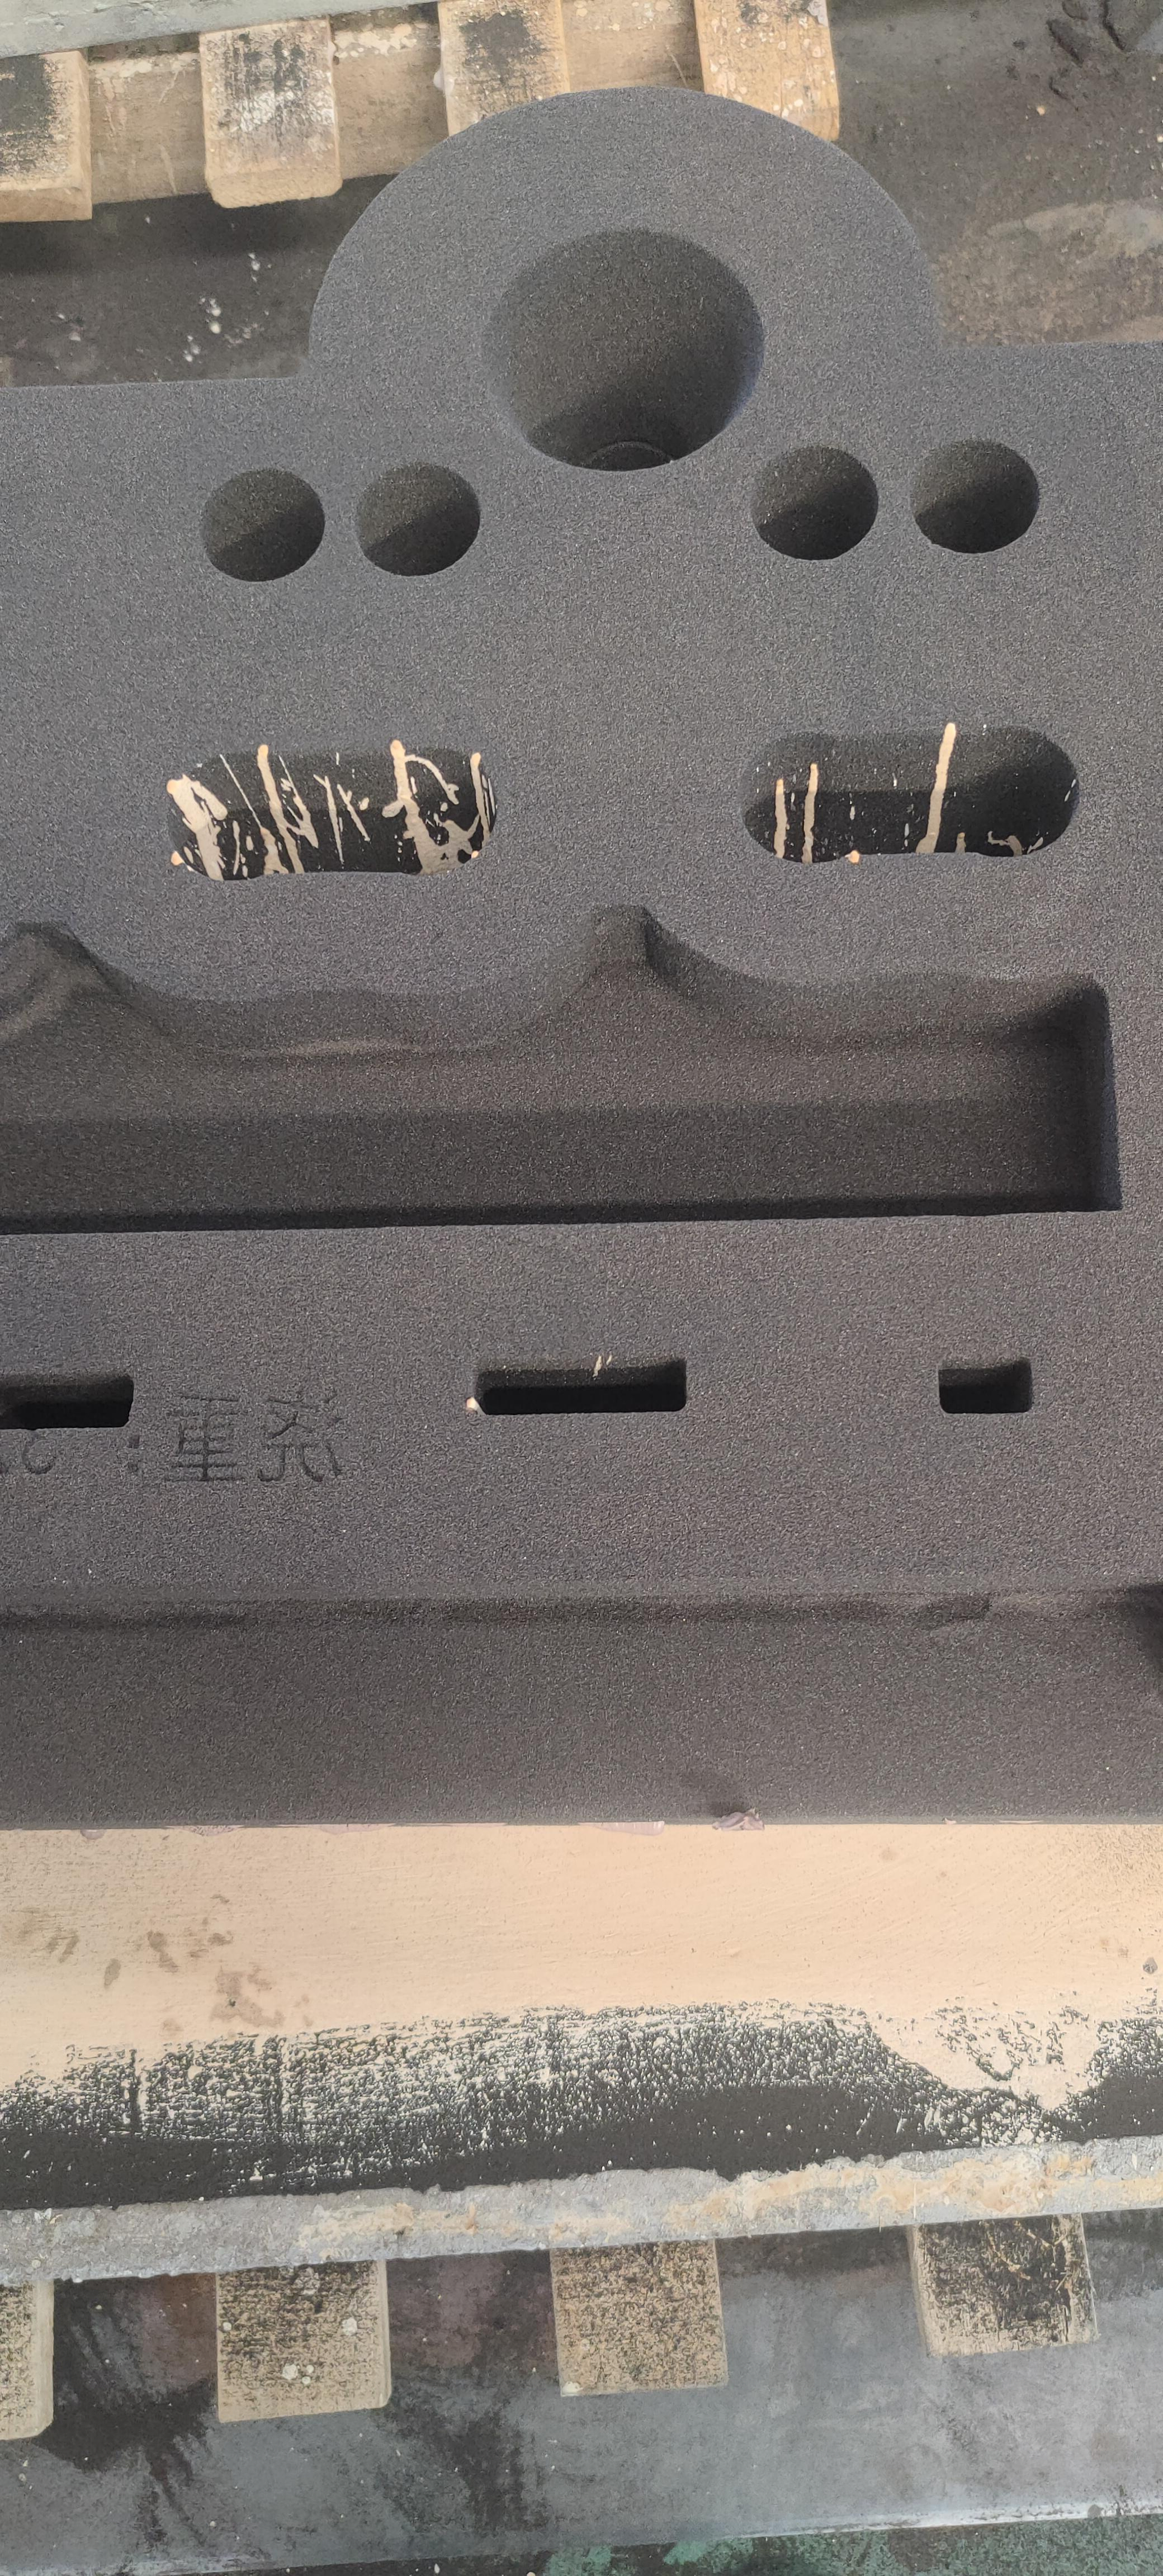pouring hole: (478, 227, 767, 480)
